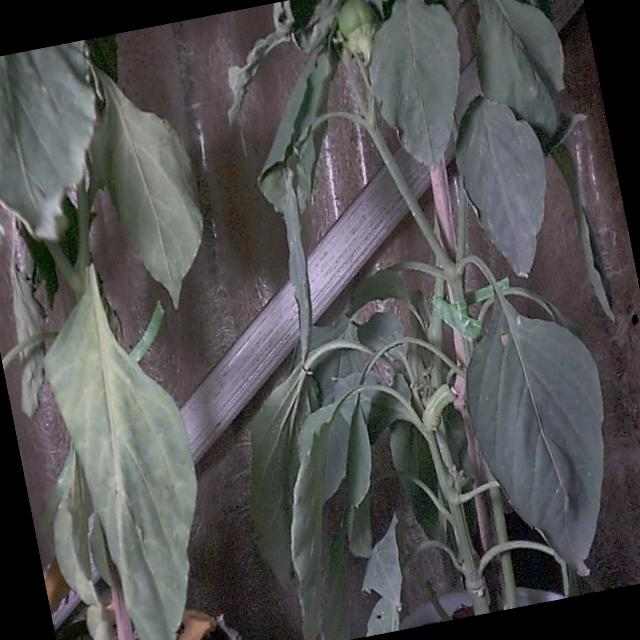Leaf: (44, 267, 196, 639), (466, 301, 602, 574), (91, 72, 202, 306), (0, 40, 94, 239), (456, 98, 545, 276), (369, 0, 458, 168), (476, 0, 563, 136)
